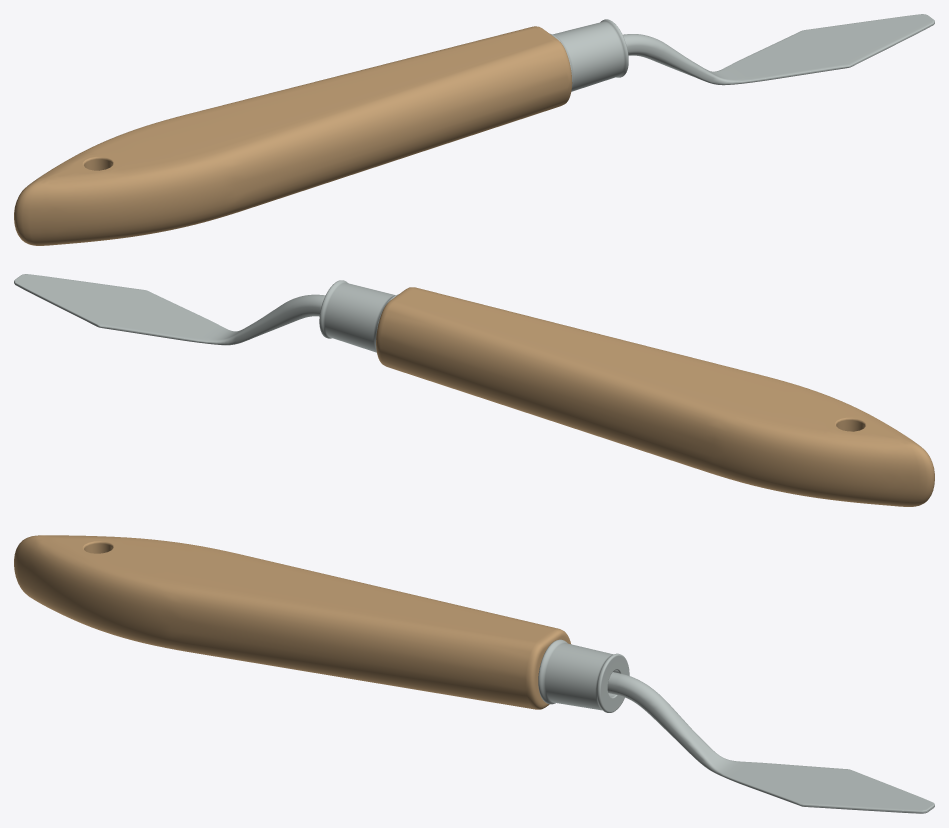
The model's file is paint_supplies_palletknife_a02.glb.
The picture shows the model from 3 angles, top to bottom: view 1: azimuth 30°, elevation 25°; view 2: azimuth 150°, elevation 25°; view 3: azimuth 330°, elevation 25°; orthographic projection.
Size of the model in its own units: 0.1505 by 0.014 by 0.0185.
